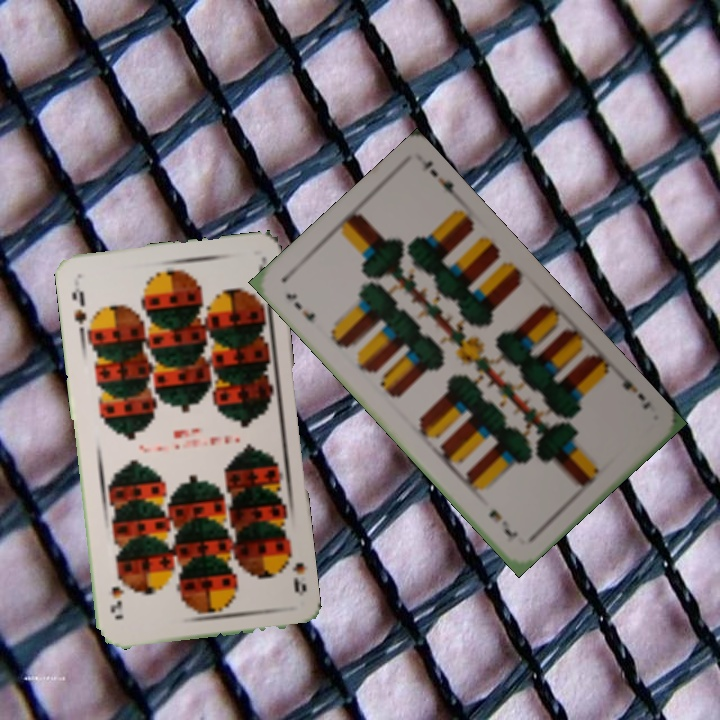E7: (614, 369, 654, 412), (281, 289, 318, 324)
S9: (279, 545, 310, 598), (68, 284, 89, 327)
